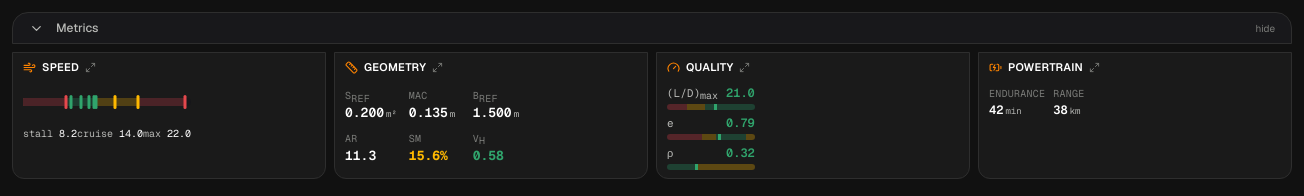
MetricsDashboard — gh-889: component-CG fallback in Balance panel › renders the 'calc' badge when balance panel is in component-CG mode
The image size is (1304, 196).
Click the button with test id "metric-col-geometry" at (491, 116), box top-left (334, 52), bottom-right (648, 179)
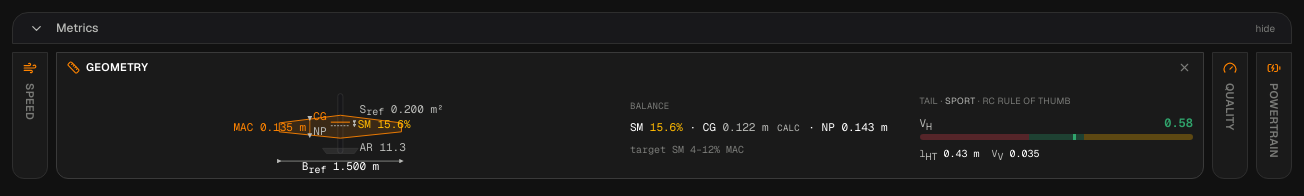
Result: the text with test id "balance-cg-calc-badge" reads "calc" at top-left (777, 122), bottom-right (800, 134)
